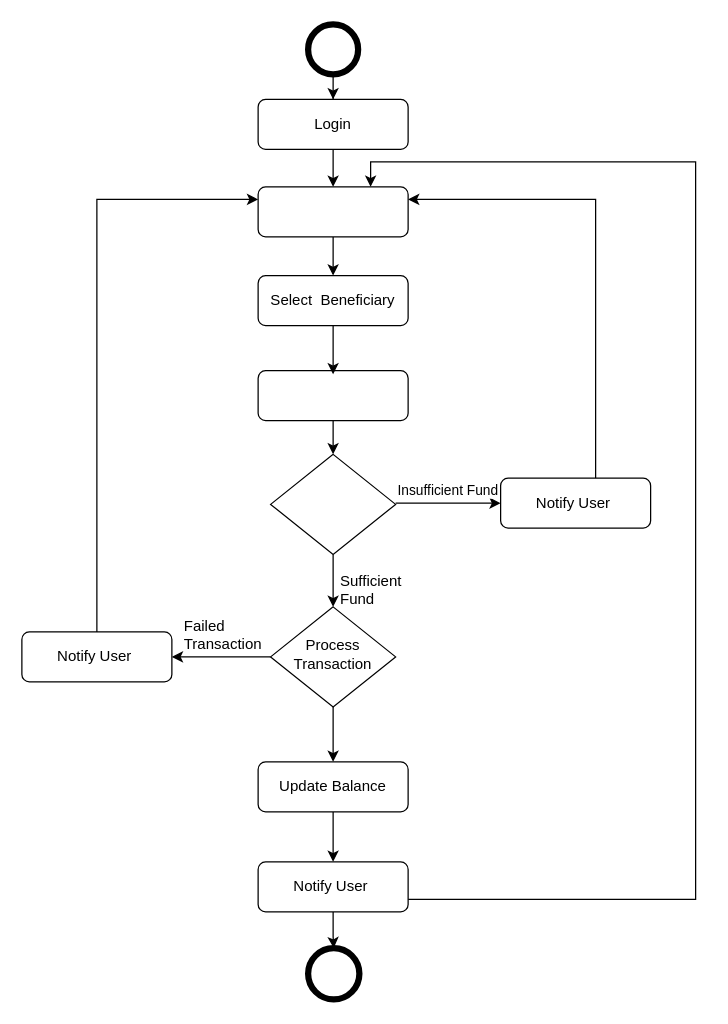
The diagram is 728 pixels wide and 1024 high, and some of its shapes have lost their labels. The box of each missing label's shape, as (x1, y1, x2, y2) in pixels:
Confirm Transaction: (269, 453, 396, 554)
Enter Transfer Details: (257, 369, 408, 421)
Stop: (304, 944, 362, 1002)
Transfer Fund: (257, 186, 408, 237)
